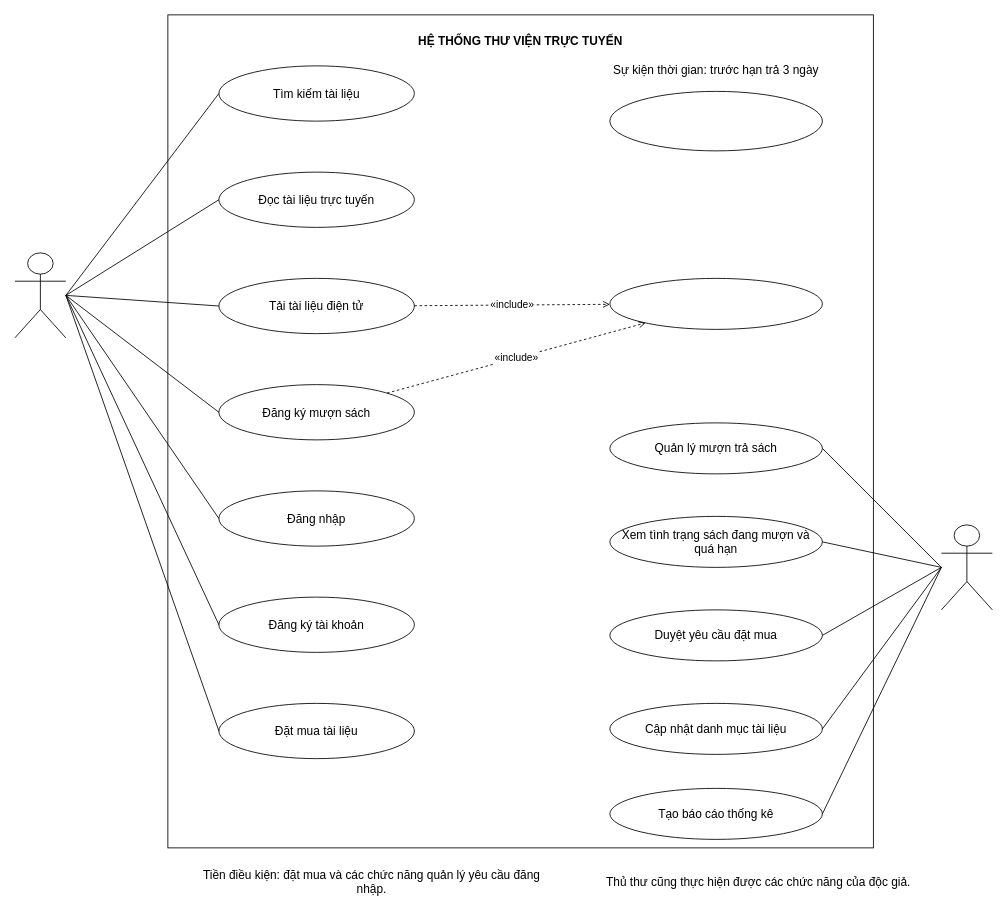
The diagram is 1007 pixels wide and 914 high, and some of its shapes have lost their labels. Each missing label, with the centre of its shape:
Gửi email nhắc hạn trả trước 3 ngày: the point at 715,121
Thủ thư: the point at 966,567
Xác thực mã thẻ thư viện: the point at 715,303
Độc giả: the point at 40,295
